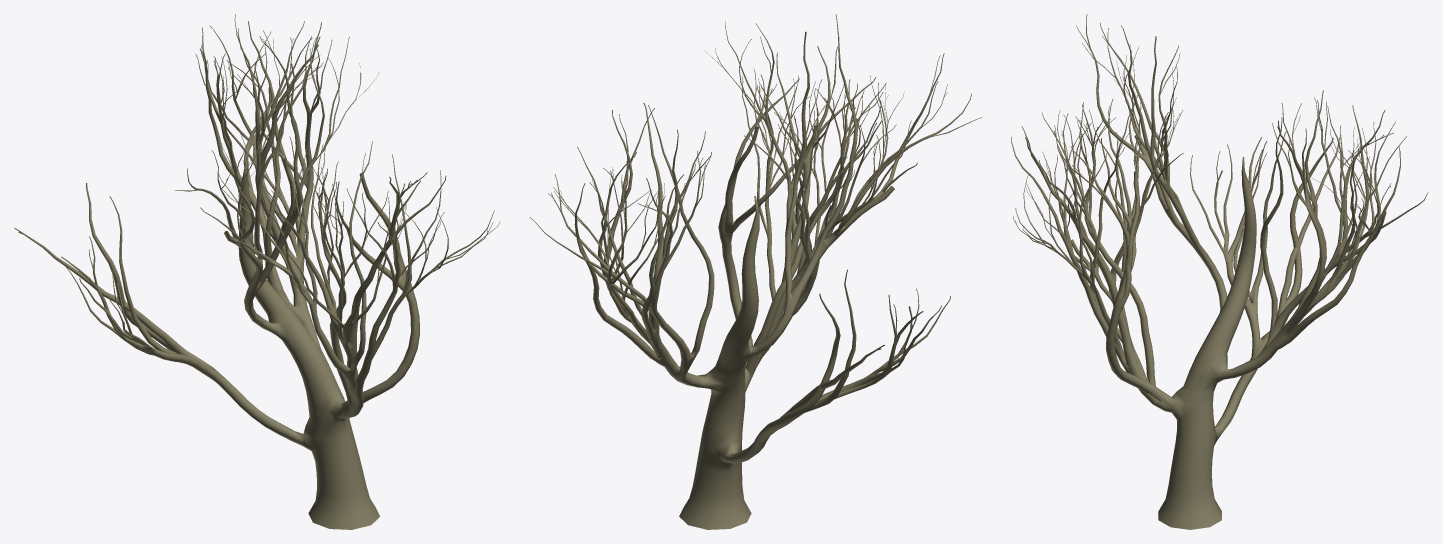
The model's file is l_drzewo_matka_chore.fbx.
3 renders of one model, left to right at view 1: azimuth 30°, elevation 25°; view 2: azimuth 150°, elevation 25°; view 3: azimuth 270°, elevation 25°, orthographic. The views are drawn at different scales.
Parts seen in each view (by area): view 1: tree; view 2: tree; view 3: tree.
Part boxes in pixels (bbox=[...]): tree: bbox=[14, 14, 500, 529]; tree: bbox=[529, 14, 982, 529]; tree: bbox=[1011, 14, 1428, 529].
Size of the model in its own units: 763 by 1123 by 934.
